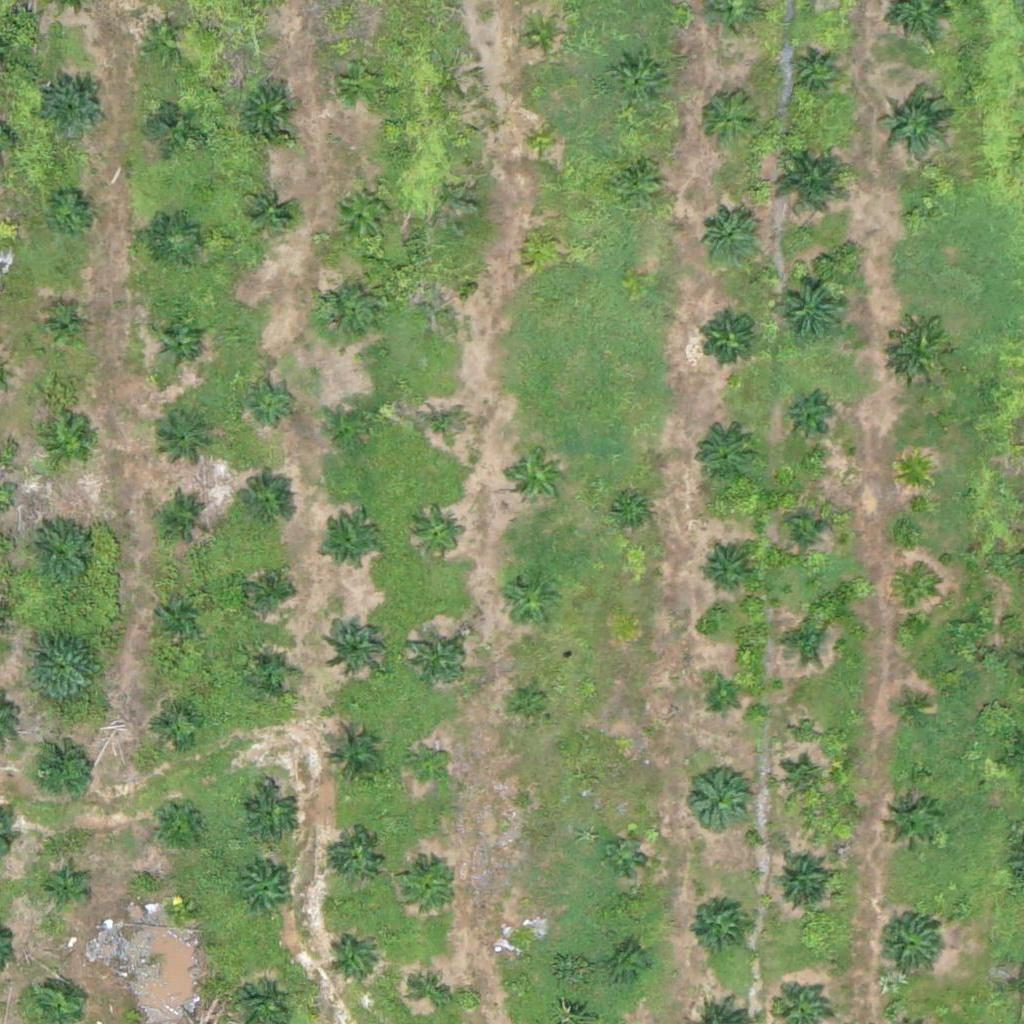Kelapa_Sawit: (769, 138, 856, 226), (22, 514, 97, 590), (26, 732, 101, 808), (26, 628, 101, 704), (877, 89, 952, 165), (772, 269, 847, 344), (686, 765, 749, 828), (497, 569, 560, 632), (240, 783, 303, 846), (695, 87, 758, 150), (698, 204, 761, 267), (889, 321, 952, 384), (156, 407, 219, 470), (314, 278, 377, 341), (504, 446, 567, 509), (43, 76, 106, 139), (609, 53, 672, 116), (235, 476, 298, 539), (319, 514, 381, 577), (687, 892, 749, 955), (320, 727, 382, 790), (407, 628, 469, 691), (323, 611, 385, 674), (692, 424, 754, 487), (696, 307, 758, 370), (770, 849, 832, 912), (880, 793, 942, 856), (878, 913, 940, 976), (238, 80, 300, 143), (332, 181, 394, 244), (237, 862, 299, 924), (413, 507, 463, 558), (698, 545, 748, 596), (775, 615, 825, 666), (150, 215, 200, 266), (148, 97, 198, 148), (45, 186, 95, 237), (243, 186, 293, 237), (417, 401, 467, 452), (329, 399, 379, 450), (247, 376, 297, 427), (155, 318, 205, 369), (152, 795, 202, 845), (151, 699, 201, 749), (333, 830, 383, 880), (403, 862, 453, 912), (779, 395, 829, 445), (44, 420, 94, 470), (612, 154, 662, 204), (776, 758, 826, 808), (780, 509, 830, 559), (338, 57, 388, 107), (141, 17, 191, 67), (245, 565, 295, 615), (247, 649, 297, 699), (153, 585, 203, 635), (158, 490, 208, 540), (40, 303, 90, 353), (328, 934, 378, 984), (788, 47, 837, 98), (44, 868, 82, 906), (895, 452, 933, 490), (897, 574, 935, 612), (896, 694, 934, 732), (523, 17, 561, 55), (525, 124, 563, 162), (521, 224, 559, 262), (612, 495, 650, 533), (408, 747, 446, 785), (506, 930, 544, 968), (412, 972, 450, 1010), (611, 946, 648, 984), (703, 678, 740, 716), (428, 276, 465, 314), (511, 684, 548, 721), (606, 834, 643, 871), (905, 204, 930, 229), (165, 896, 190, 921)
